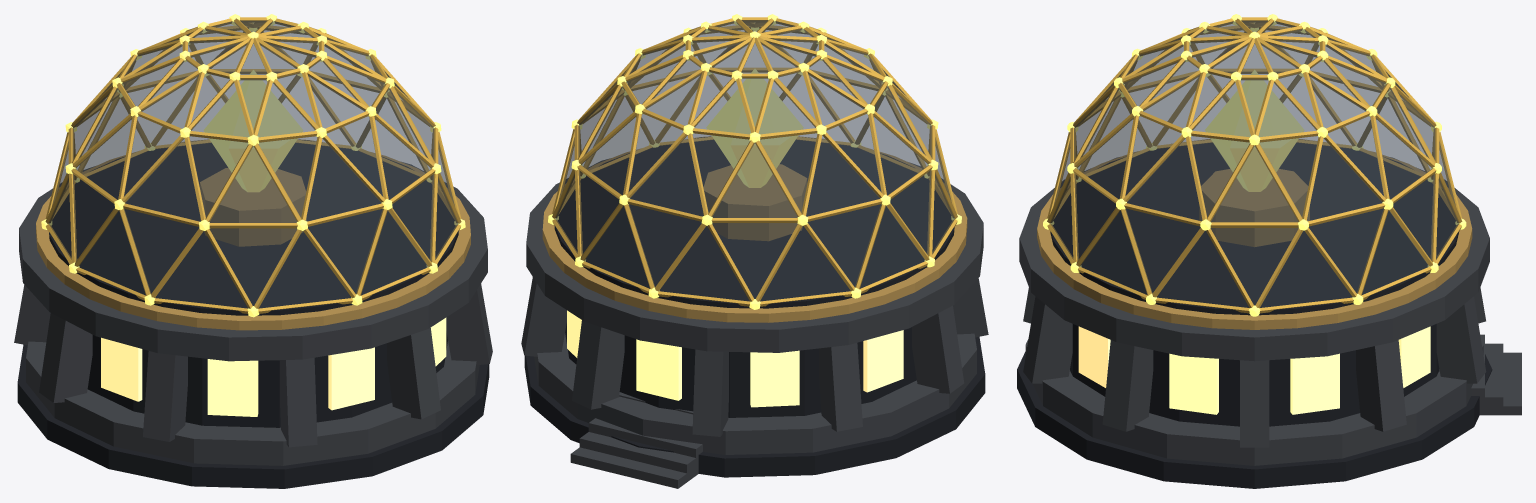
Rendered from core.glb.
The picture shows the model from 3 angles, left to right: view 1: azimuth 30°, elevation 25°; view 2: azimuth 150°, elevation 25°; view 3: azimuth 270°, elevation 25°; orthographic projection. The views are drawn at different scales.
Visible parts, largest first — view 1: core_geo_core_smoked_glass, core_geo_core_foundation, core_geo_core_graphite, core_geo_core_gold_mullion, core_geo_core_brass, core_geo_core_junction, core_geo_core_amber; view 2: core_geo_core_smoked_glass, core_geo_core_graphite, core_geo_core_foundation, core_geo_core_gold_mullion, core_geo_core_brass, core_geo_core_junction, core_geo_core_amber; view 3: core_geo_core_smoked_glass, core_geo_core_foundation, core_geo_core_graphite, core_geo_core_gold_mullion, core_geo_core_brass, core_geo_core_amber, core_geo_core_junction.
Part boxes in pixels (<box>): core_geo_core_smoked_glass: <box>49,20,457,308</box>; core_geo_core_foundation: <box>17,140,489,488</box>; core_geo_core_graphite: <box>14,162,492,465</box>; core_geo_core_gold_mullion: <box>45,17,461,313</box>; core_geo_core_brass: <box>36,139,470,330</box>; core_geo_core_junction: <box>41,14,465,317</box>; core_geo_core_amber: <box>101,317,446,416</box>; core_geo_core_smoked_glass: <box>555,20,954,301</box>; core_geo_core_graphite: <box>521,159,988,488</box>; core_geo_core_foundation: <box>524,137,985,477</box>; core_geo_core_gold_mullion: <box>552,17,957,306</box>; core_geo_core_brass: <box>542,136,967,322</box>; core_geo_core_junction: <box>548,14,961,309</box>; core_geo_core_amber: <box>567,310,903,407</box>; core_geo_core_smoked_glass: <box>1050,20,1458,307</box>; core_geo_core_foundation: <box>1017,143,1492,488</box>; core_geo_core_graphite: <box>1019,157,1521,465</box>; core_geo_core_gold_mullion: <box>1047,17,1462,313</box>; core_geo_core_brass: <box>1037,139,1472,329</box>; core_geo_core_amber: <box>1078,326,1430,414</box>; core_geo_core_junction: <box>1043,14,1466,316</box>.
Bounding box in the file's own units: 6.21 × 5.12 × 6.56.
